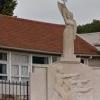Statue: (52, 2, 87, 68)
